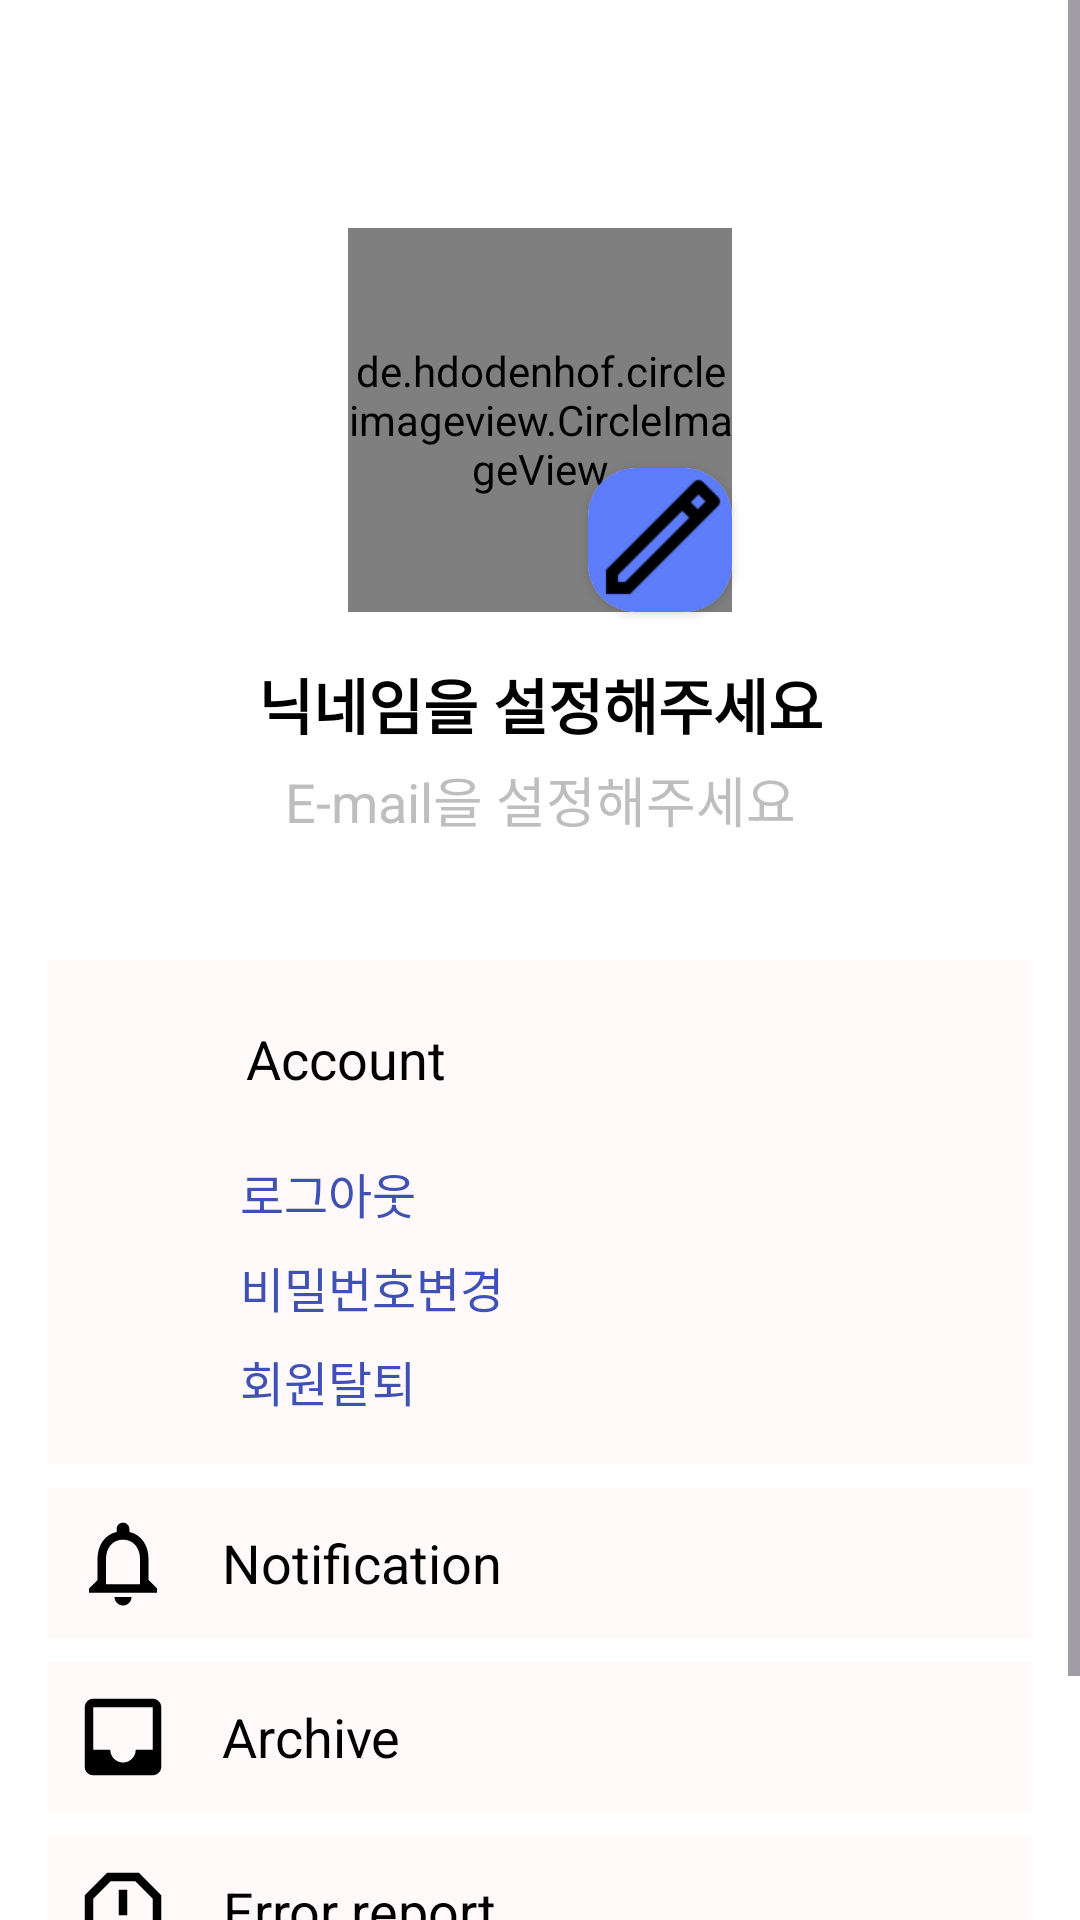

Point at icon controls on the screen. Image size 1080 x 1920, points as (x,y).
edit: (660,540)
inbox: (123,1737)
